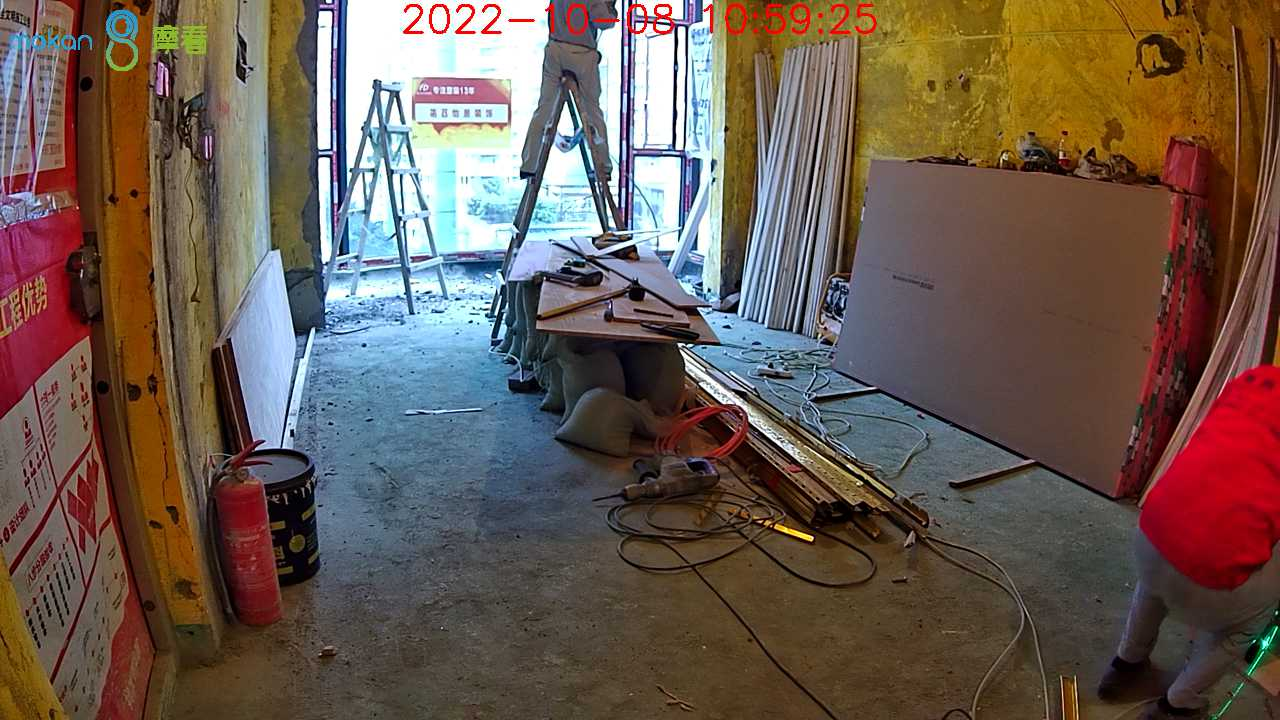people: (1099, 362, 1280, 712), (520, 1, 615, 182)
window: (348, 9, 704, 252)
